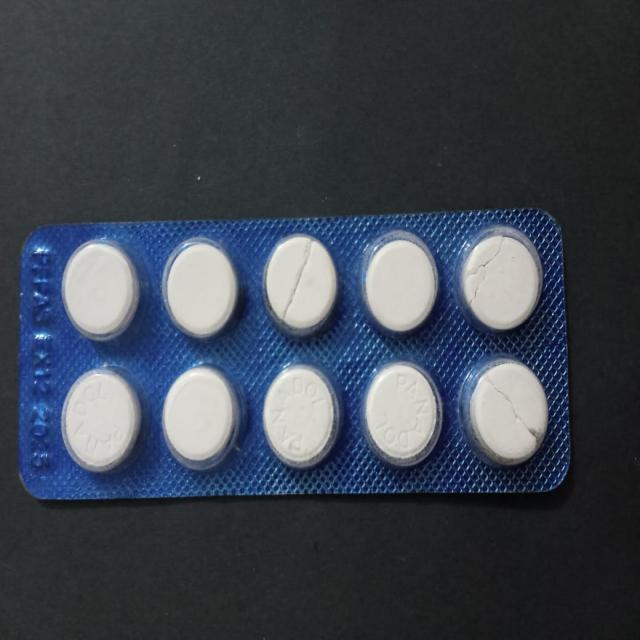defect: (458, 354, 550, 472), (456, 220, 546, 337), (261, 230, 343, 344)
